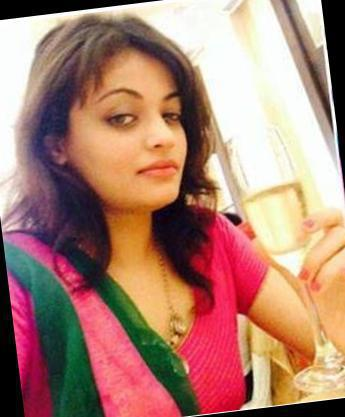Drunk: (82, 53, 185, 206)
